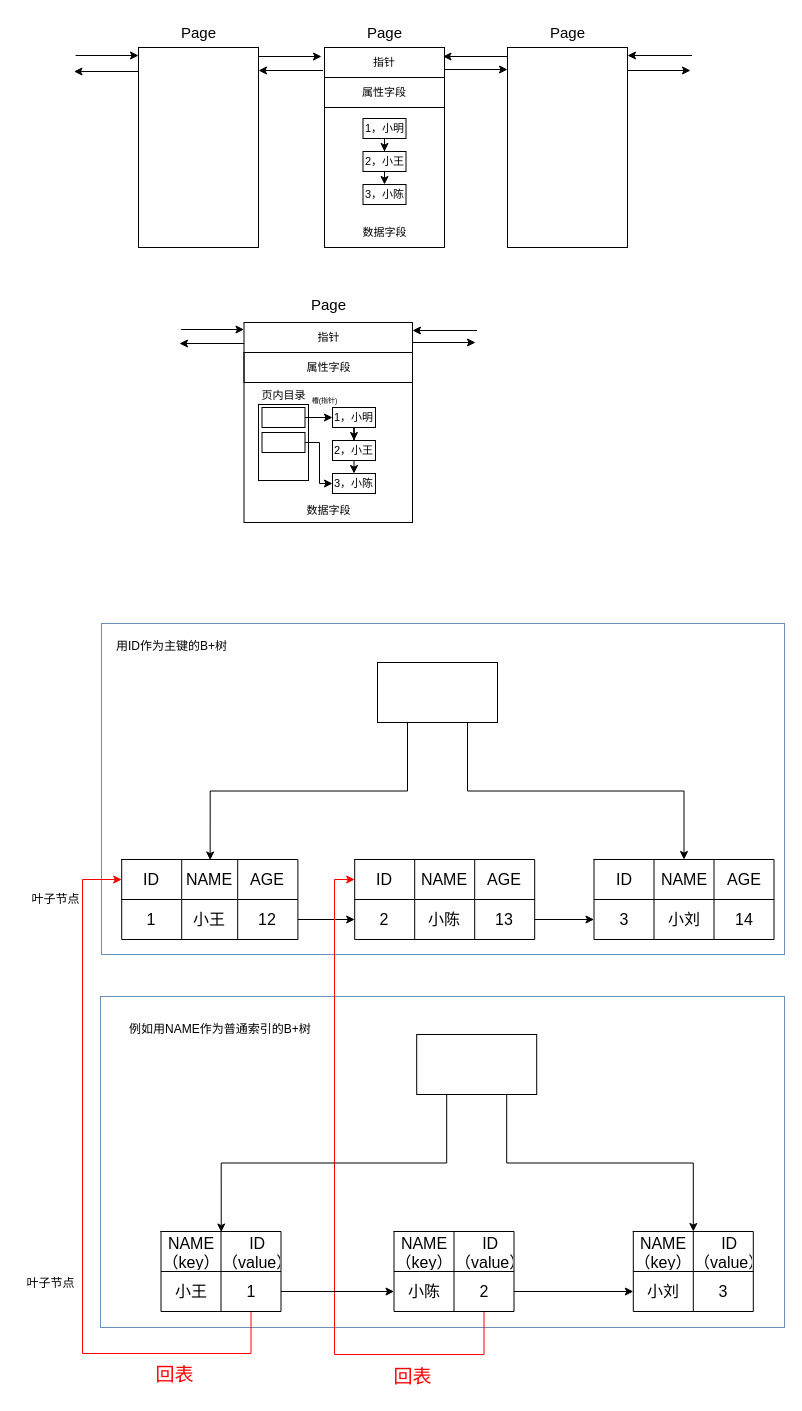
Image size: 802x1411. Some labels were removed from this diagram. The centre of each missing label's shape, as x and y in pixels:
"目录1" belongs at (x=283, y=417).
"目录2" belongs at (x=283, y=442).
